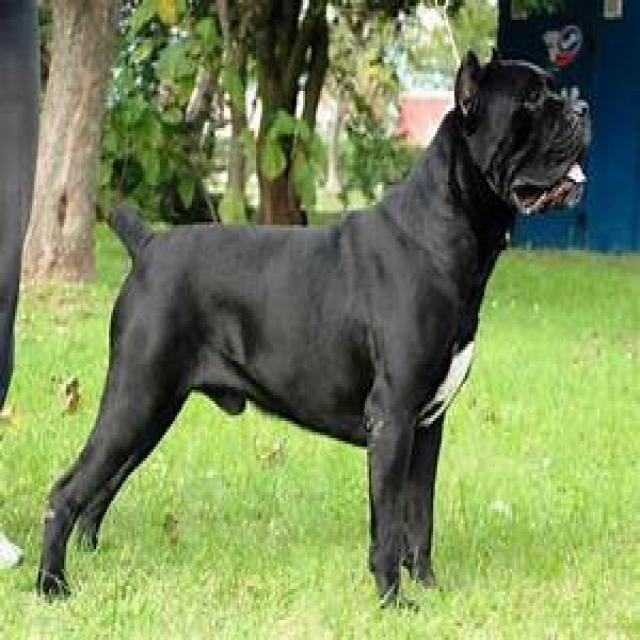dog: (36, 54, 593, 600)
